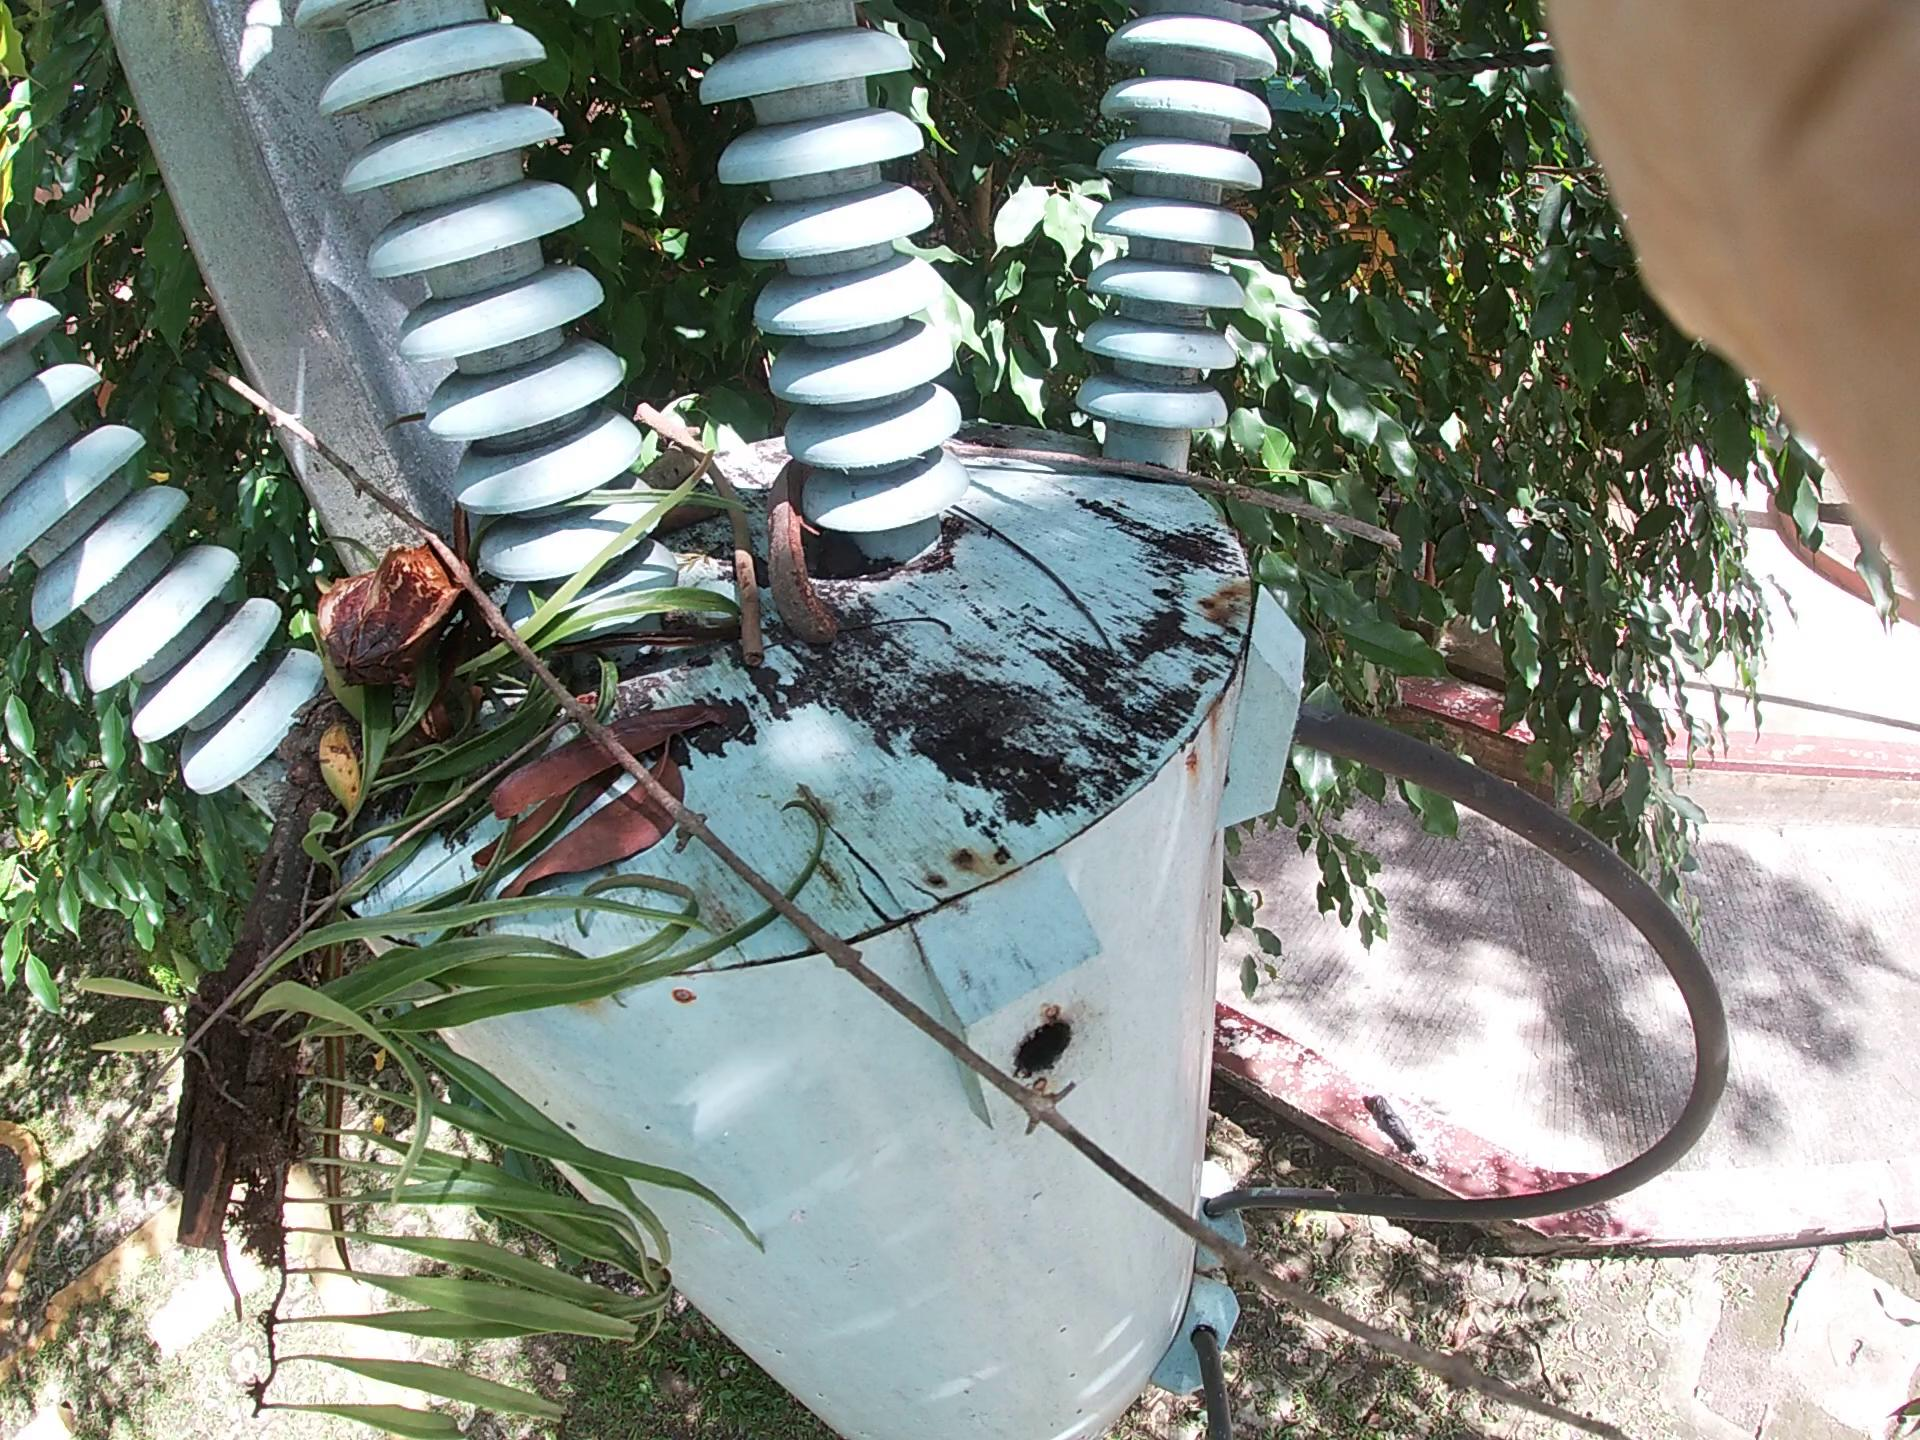branch with leaves: (172, 189, 570, 1181)
mahogany fruit: (281, 504, 523, 749), (723, 402, 881, 720)
tree branch: (248, 357, 1377, 1401), (1019, 460, 1401, 617), (643, 366, 816, 691), (508, 731, 816, 870)
